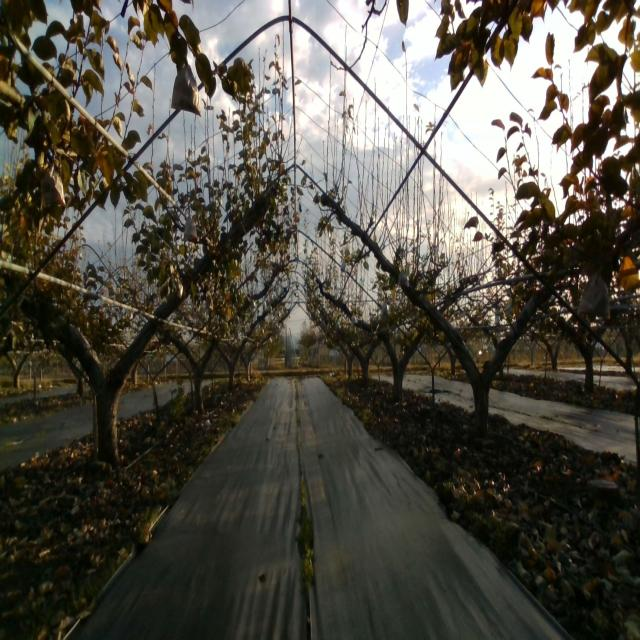pearbags: (576, 271, 610, 321), (171, 63, 201, 117), (41, 169, 66, 208), (184, 212, 197, 243), (398, 269, 410, 287)
